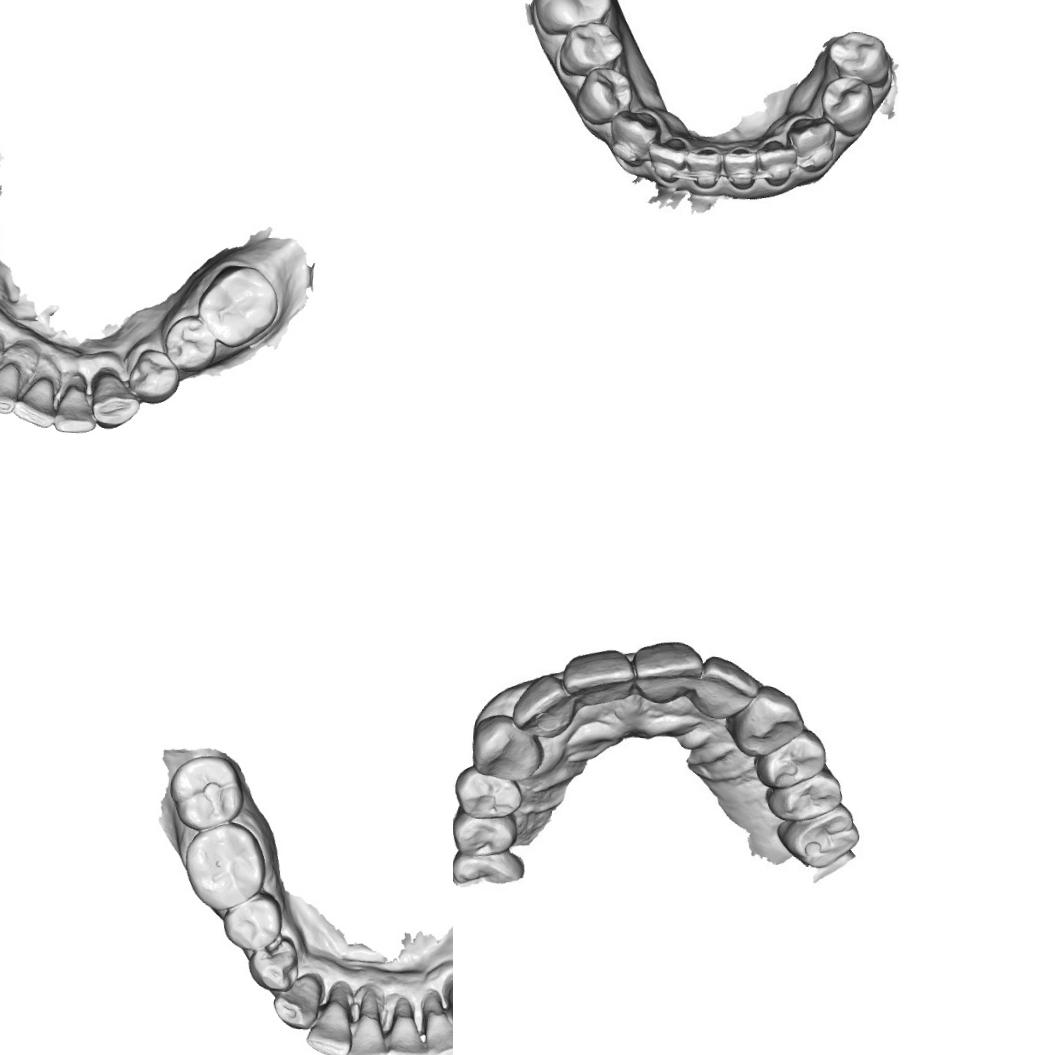canine: (470, 716, 538, 778), (738, 693, 804, 756), (610, 110, 664, 168), (270, 972, 321, 1032), (92, 371, 141, 432), (790, 120, 838, 173)
incisor: (564, 648, 634, 710), (631, 637, 696, 700), (518, 672, 576, 736), (696, 656, 754, 719), (305, 997, 355, 1055), (11, 374, 60, 427), (53, 382, 98, 436), (381, 1009, 430, 1055), (340, 1010, 389, 1055), (756, 139, 795, 184), (648, 135, 685, 181), (722, 142, 756, 190), (688, 141, 722, 189), (420, 1006, 453, 1055), (0, 362, 22, 414)
molar: (180, 820, 269, 914), (768, 796, 870, 878), (194, 259, 283, 350), (165, 750, 249, 832), (530, 0, 614, 40)
premolar: (758, 730, 829, 790), (220, 890, 286, 954), (822, 26, 889, 84), (558, 22, 626, 78), (246, 934, 304, 993), (775, 773, 843, 823), (456, 768, 518, 820), (164, 312, 218, 370), (579, 67, 632, 120), (127, 348, 177, 404), (455, 816, 514, 860), (822, 75, 870, 127)
